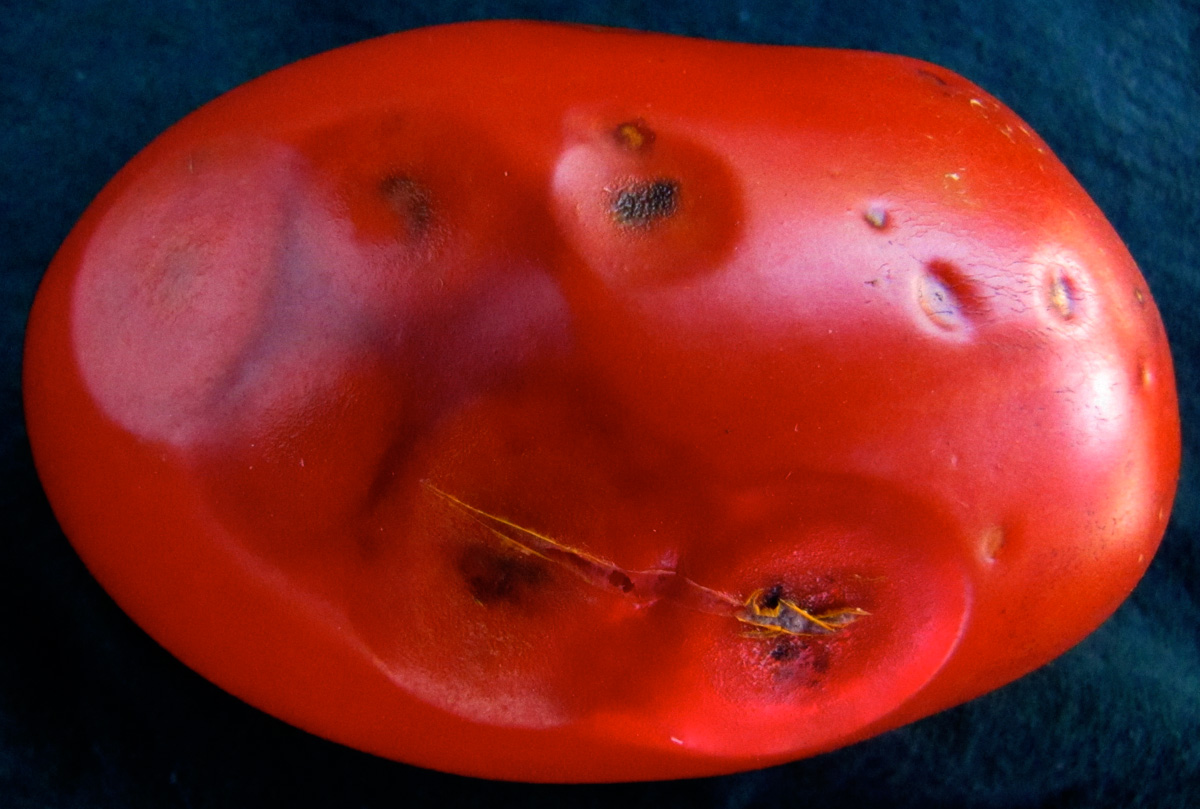anthracnose: (312, 384, 944, 723), (463, 113, 765, 309)
